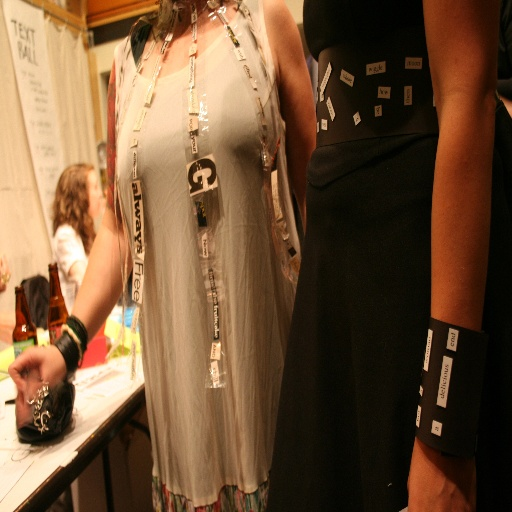hand: (4, 333, 68, 435), (406, 441, 478, 511)
